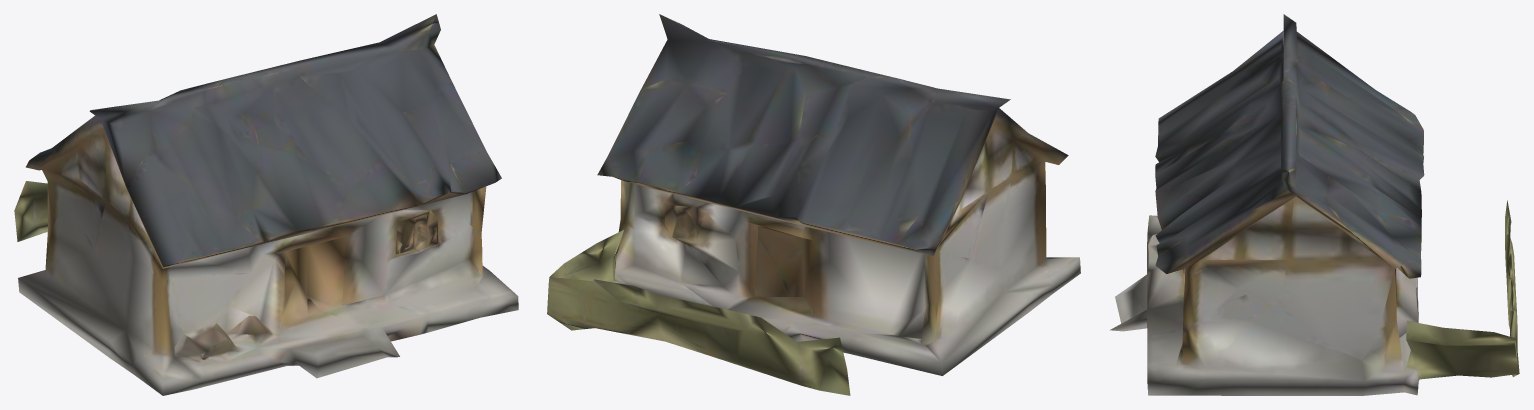
File: house_far.glb
3 views of the same model, side by side, from view 1: azimuth 30°, elevation 25°; view 2: azimuth 150°, elevation 25°; view 3: azimuth 270°, elevation 25° (orthographic). The views are drawn at different scales.
Parts seen in each view (by area): view 1: tripo_node_2453ee2a-a3d3-45ea-ad56-e49c16b9d721; view 2: tripo_node_2453ee2a-a3d3-45ea-ad56-e49c16b9d721; view 3: tripo_node_2453ee2a-a3d3-45ea-ad56-e49c16b9d721.
Boxes of the visible parts, bbox=[...] form: tripo_node_2453ee2a-a3d3-45ea-ad56-e49c16b9d721: bbox=[14, 14, 518, 395]; tripo_node_2453ee2a-a3d3-45ea-ad56-e49c16b9d721: bbox=[547, 14, 1080, 395]; tripo_node_2453ee2a-a3d3-45ea-ad56-e49c16b9d721: bbox=[1110, 14, 1519, 395].
Bounding box in the file's own units: 0.9422 × 0.6051 × 0.9949.
Materials: 1 (1 with a texture image).
